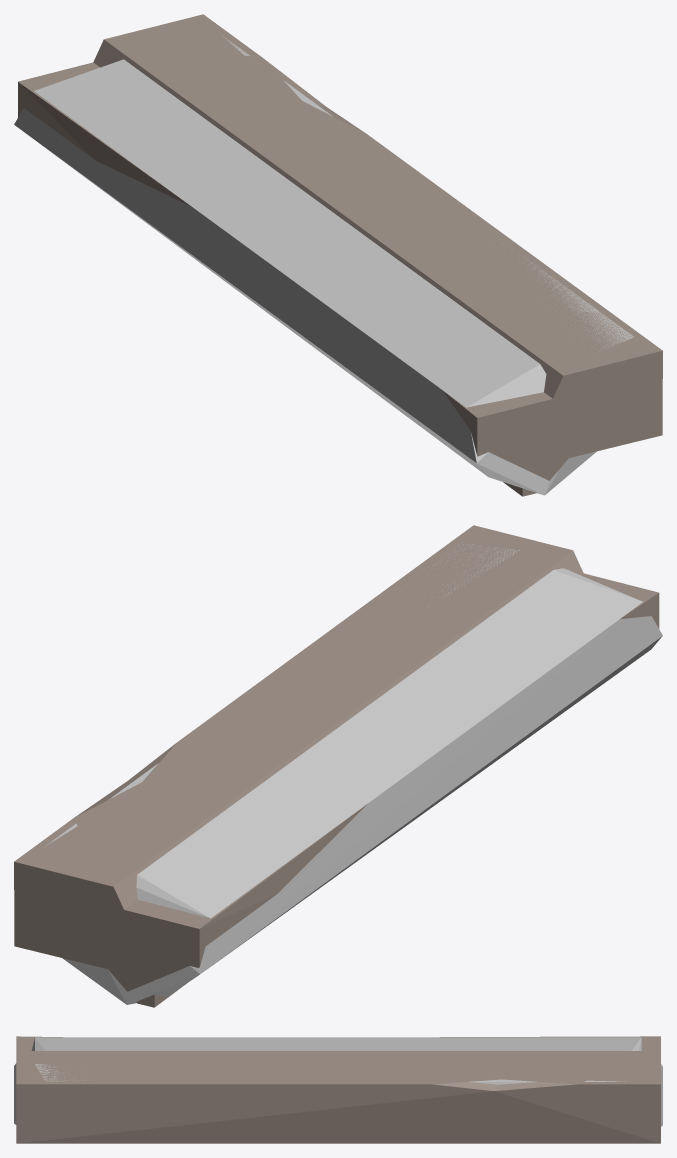
Rendered from SM_Bld_Roof_Trim_Flat_01.fbx.
The picture shows the model from 3 angles, top to bottom: view 1: azimuth 30°, elevation 25°; view 2: azimuth 150°, elevation 25°; view 3: azimuth 270°, elevation 25°; orthographic projection. The views are drawn at different scales.
Parts seen in each view (by area): view 1: SM_Bld_Roof_Trim_Flat_01, SM_Bld_Roof_Trim_Flat_01_ConvexHulls; view 2: SM_Bld_Roof_Trim_Flat_01, SM_Bld_Roof_Trim_Flat_01_ConvexHulls; view 3: SM_Bld_Roof_Trim_Flat_01, SM_Bld_Roof_Trim_Flat_01_ConvexHulls.
Boxes of the visible parts, x1,y1,x2,y2 form: SM_Bld_Roof_Trim_Flat_01: (18,14,662,496); SM_Bld_Roof_Trim_Flat_01_ConvexHulls: (14,35,634,495); SM_Bld_Roof_Trim_Flat_01: (14,525,659,1007); SM_Bld_Roof_Trim_Flat_01_ConvexHulls: (46,543,662,1004); SM_Bld_Roof_Trim_Flat_01: (16,1036,660,1143); SM_Bld_Roof_Trim_Flat_01_ConvexHulls: (14,1037,662,1126).
Bounding box in the file's own units: 60.54 × 252 × 34.36.
Materials: 2 (1 with a texture image).
